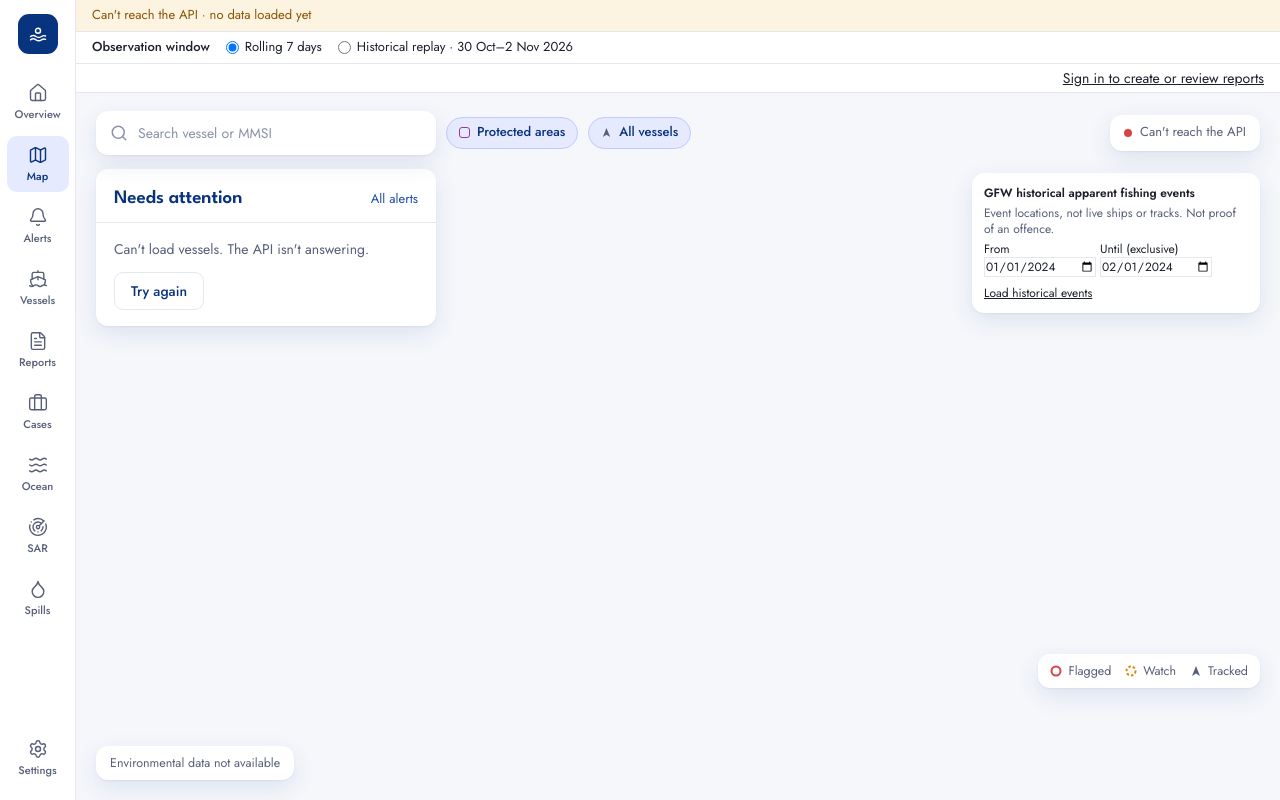
Test: map page › loads the fleet again when asked
Click the button "Try again" at (159, 290), box left=114, top=272, right=204, bottom=310
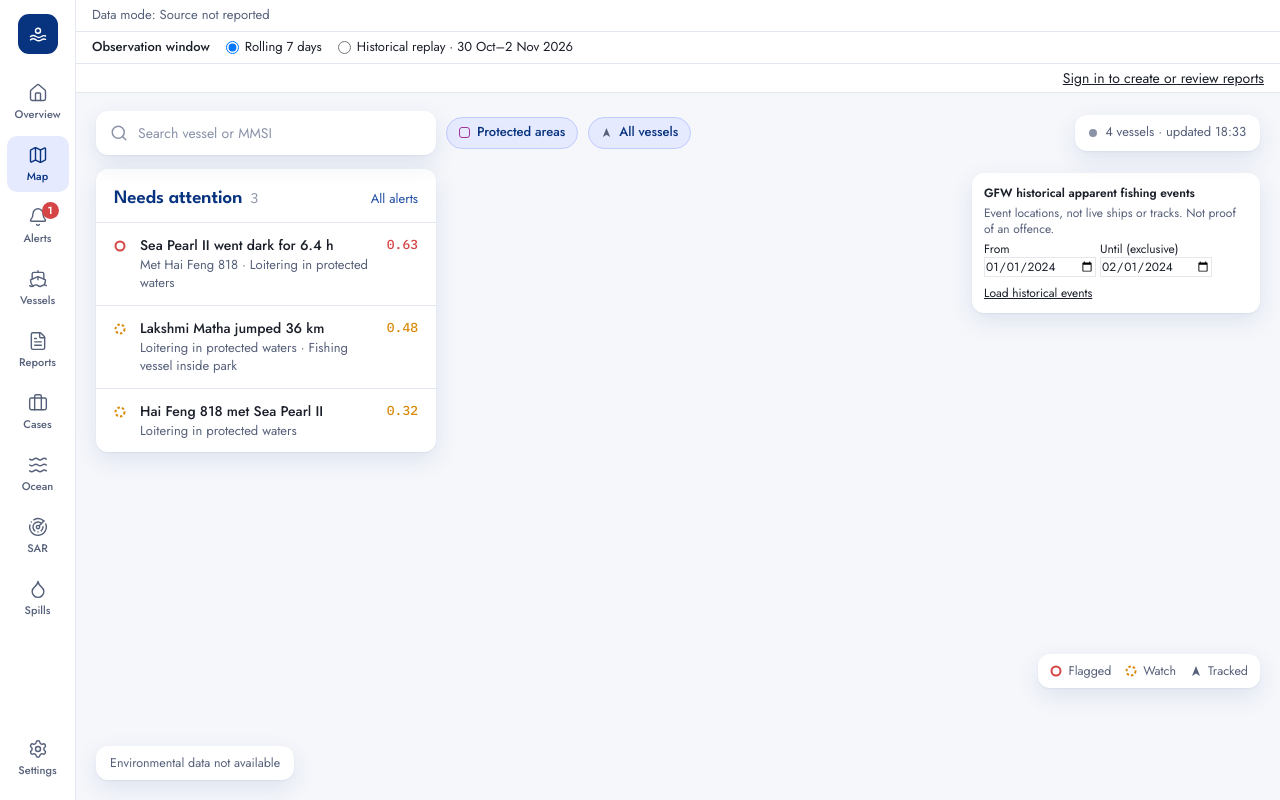
Expected: the text "Sea Pearl II went dark for 6.4 h" is shown, left=140, top=235, right=334, bottom=255
